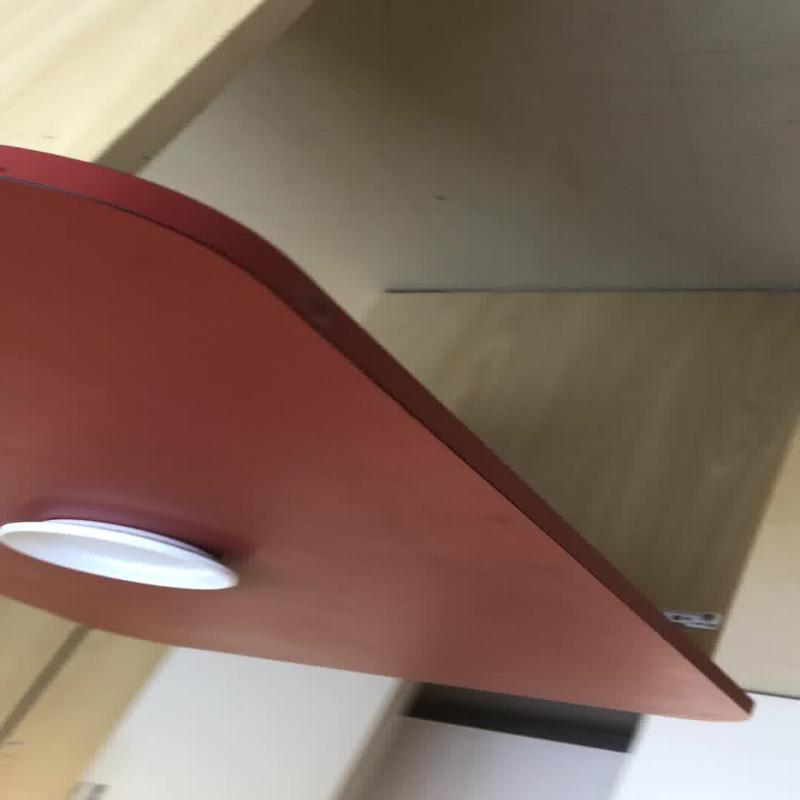plate: (0, 142, 754, 722), (0, 516, 239, 590)
